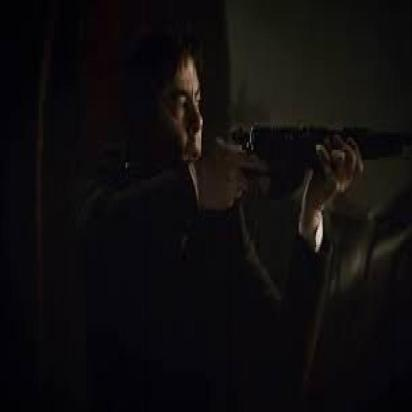Gun: (122, 123, 412, 194)
